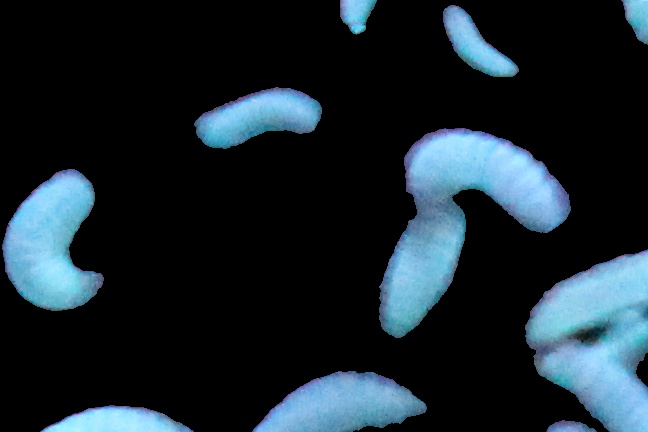larvae: (398, 127, 568, 228), (1, 171, 99, 309), (522, 248, 648, 348), (239, 369, 430, 432), (529, 342, 648, 432), (373, 219, 460, 337), (180, 83, 319, 148), (37, 393, 193, 432), (446, 5, 515, 83)
